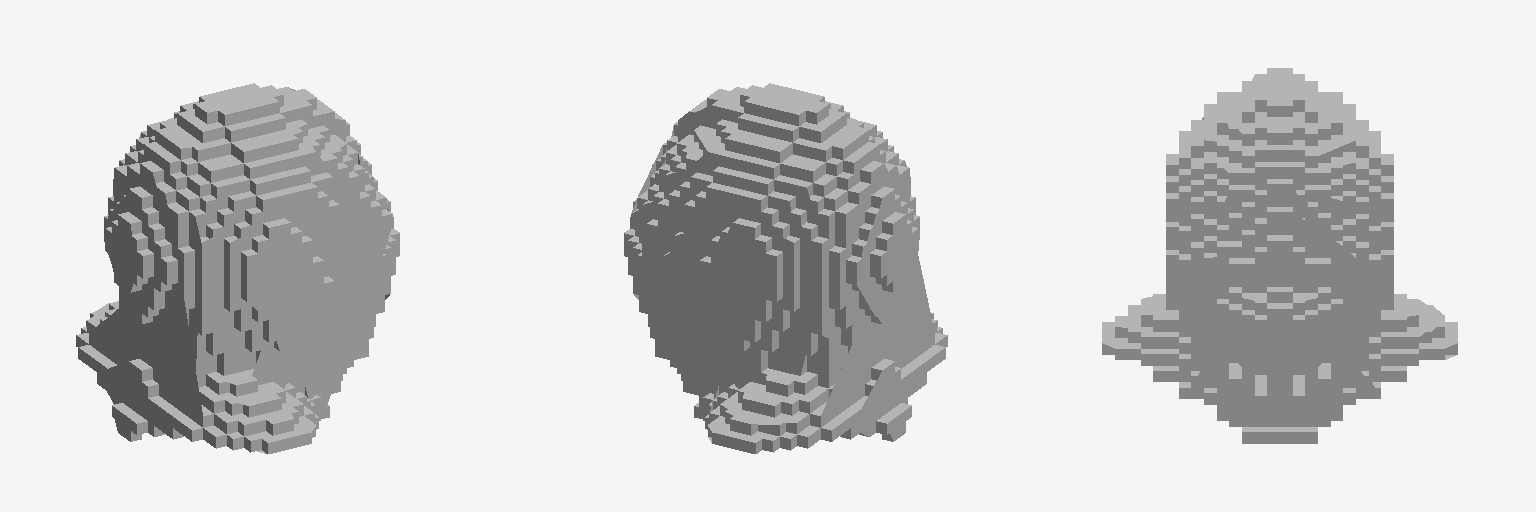
File: Helm_Steelplate_Pickup.obj
3 renders of one model, left to right at view 1: azimuth 30°, elevation 25°; view 2: azimuth 150°, elevation 25°; view 3: azimuth 270°, elevation 25°, orthographic.
Visible parts, largest first — view 1: Helm_Steelplate_Pickup; view 2: Helm_Steelplate_Pickup; view 3: Helm_Steelplate_Pickup.
Part boxes in pixels (x1,y1,x2,y2): Helm_Steelplate_Pickup: (76, 83, 399, 454); Helm_Steelplate_Pickup: (624, 83, 947, 453); Helm_Steelplate_Pickup: (1102, 68, 1457, 443).
Bounding box in the file's own units: 0.24 × 0.28 × 0.28.